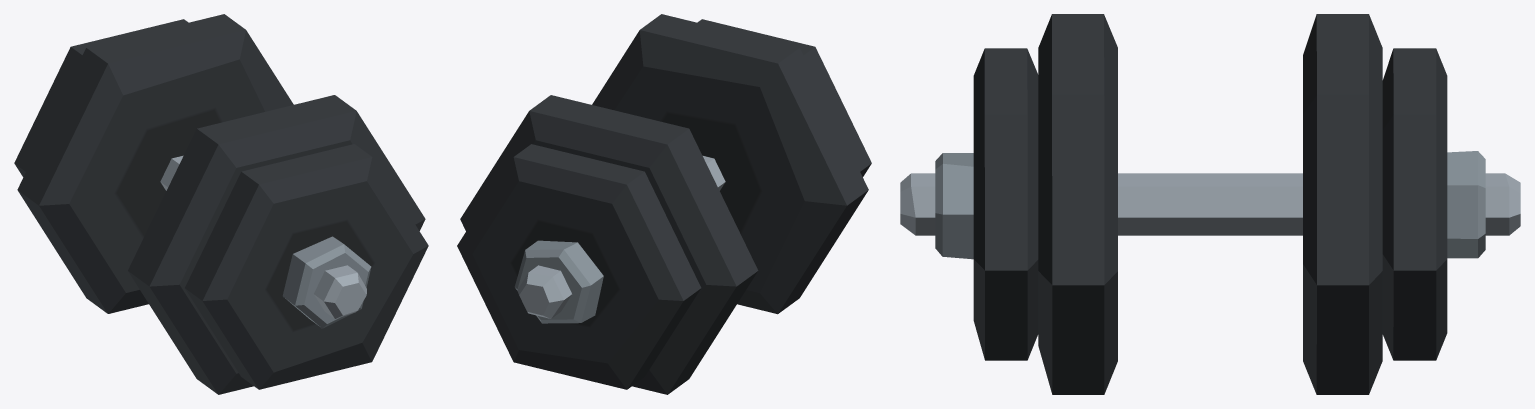
The model's file is SM_Prop_Dumbbell_02.glb.
3 views of the same model, side by side, from view 1: azimuth 30°, elevation 25°; view 2: azimuth 150°, elevation 25°; view 3: azimuth 270°, elevation 25° (orthographic). The views are drawn at different scales.
Visible parts, largest first — view 1: SM_Prop_Dumbbell_02; view 2: SM_Prop_Dumbbell_02; view 3: SM_Prop_Dumbbell_02.
Part boxes in pixels (<box>): SM_Prop_Dumbbell_02: <box>14,14,428,394</box>; SM_Prop_Dumbbell_02: <box>457,14,871,394</box>; SM_Prop_Dumbbell_02: <box>900,14,1520,394</box>.
Bounding box in the file's own units: 0.2929 × 0.2537 × 0.475.
Materials: 1 (1 with a texture image).
